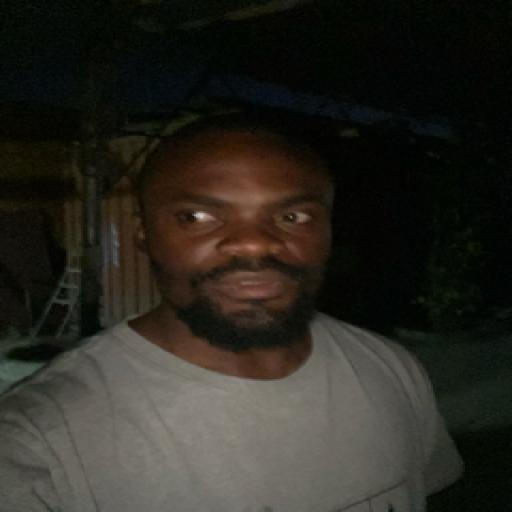JEANLUC: (126, 110, 354, 350)
